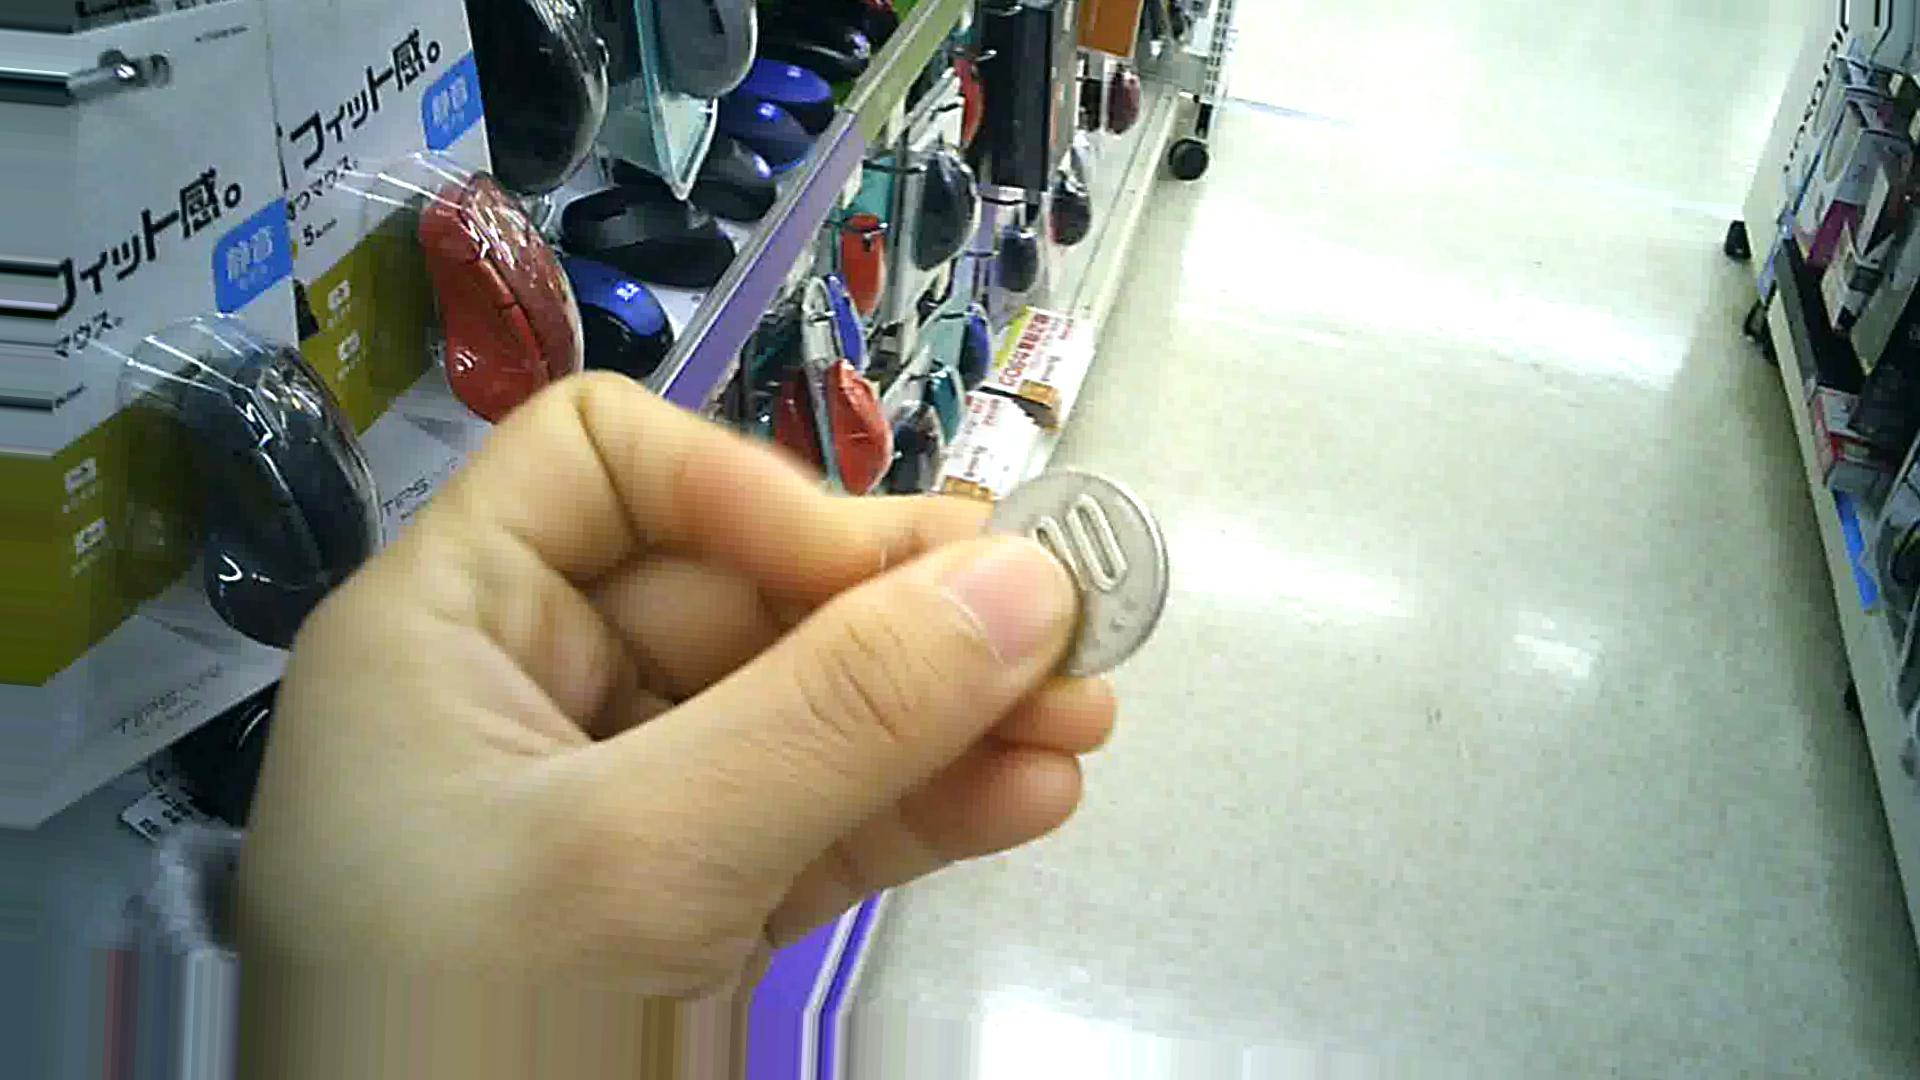100 Yen: (964, 475, 1164, 679)
